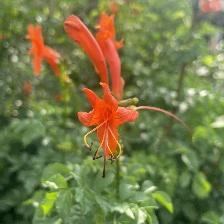honeysuckle: (78, 81, 140, 181)
